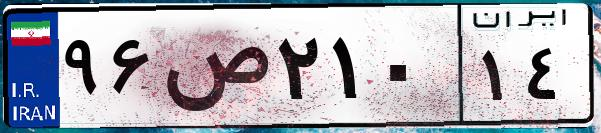0: (385, 28, 445, 110)
1: (330, 28, 385, 110), (475, 38, 525, 113)
2: (270, 28, 330, 110)
4: (525, 38, 570, 115)
6: (110, 28, 158, 98)
9: (57, 26, 110, 100)
ص: (158, 20, 270, 120)
